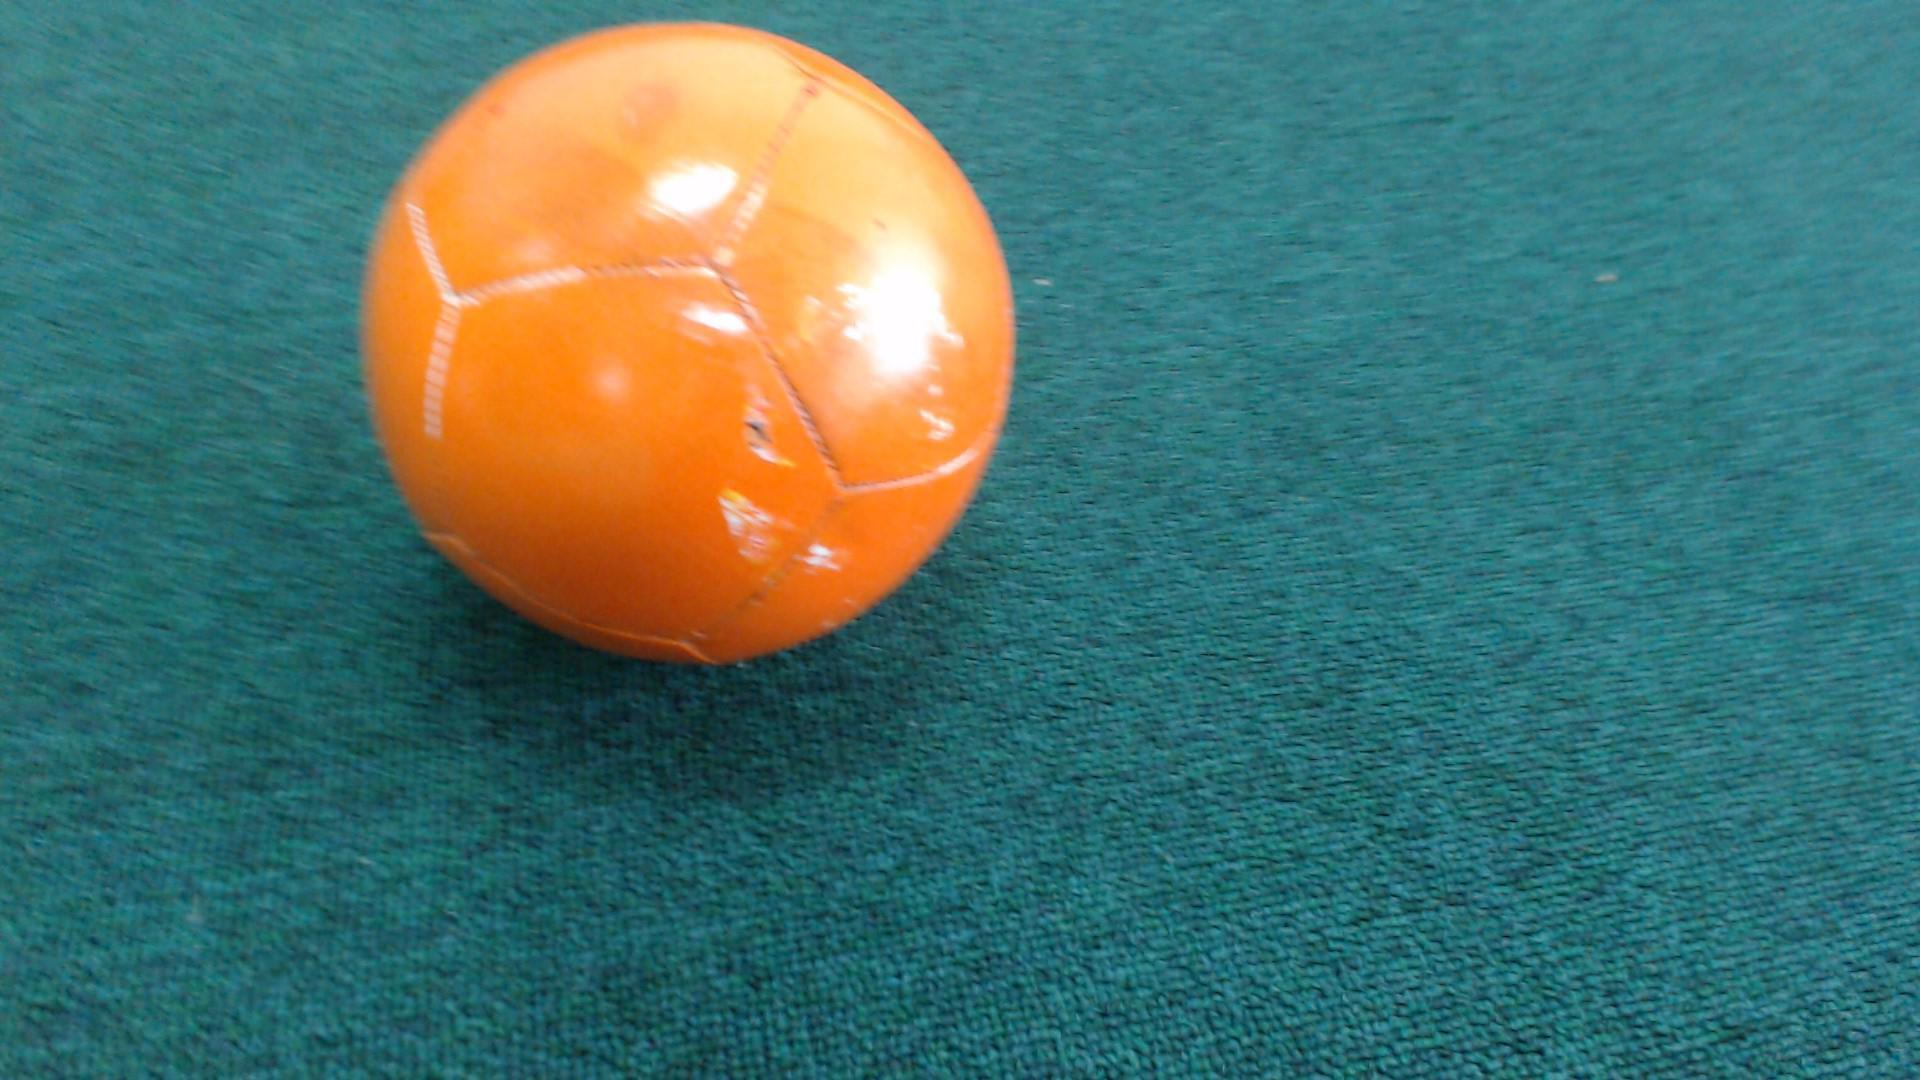bola: (344, 0, 1058, 711)
